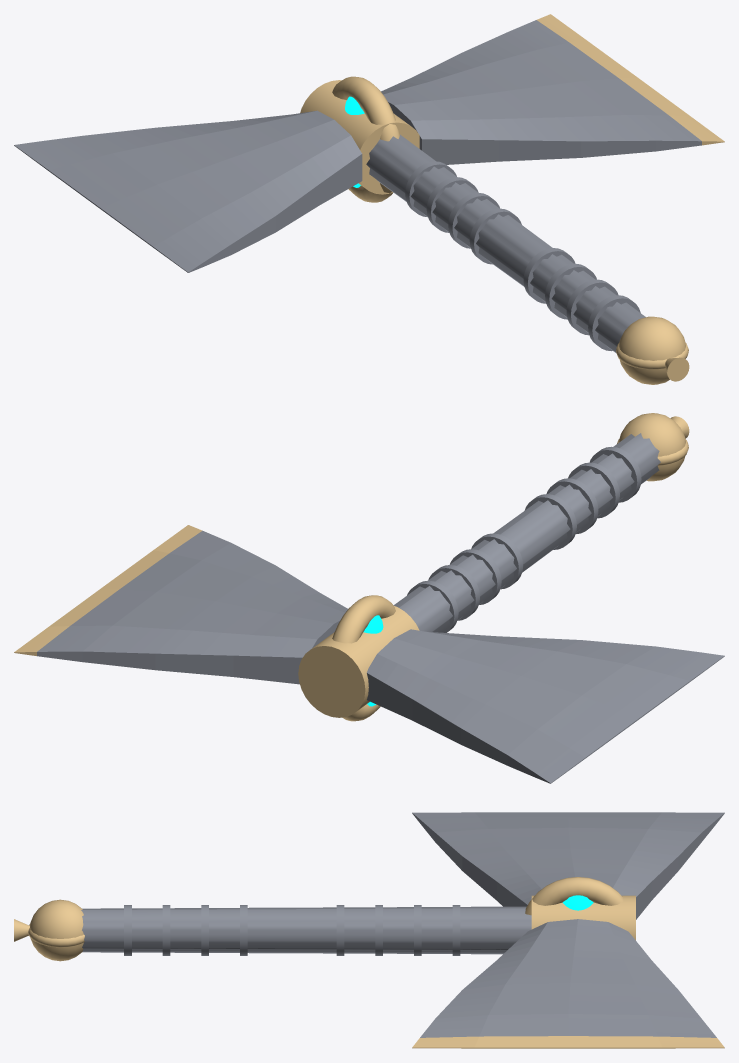
Rendered from art_battleaxe_cleaver.fbx.
The picture shows the model from 3 angles, top to bottom: view 1: azimuth 30°, elevation 25°; view 2: azimuth 150°, elevation 25°; view 3: azimuth 270°, elevation 25°; orthographic projection. The views are drawn at different scales.
Parts seen in each view (by area): view 1: BackSpike, Blade, Handle, HeadCollar, Pommel, BladeEdge; view 2: BackSpike, Blade, Handle, HeadCollar, BladeEdge, Pommel; view 3: Blade, Handle, BackSpike, HeadCollar, BladeEdge, Pommel.
Part boxes in pixels (<box>): BackSpike: <box>14,110,362,272</box>; Blade: <box>381,20,701,164</box>; Handle: <box>366,134,645,353</box>; HeadCollar: <box>300,76,419,202</box>; Pommel: <box>616,316,689,384</box>; BladeEdge: <box>537,14,724,145</box>; BackSpike: <box>367,629,724,783</box>; Blade: <box>37,530,347,684</box>; Handle: <box>393,433,660,632</box>; HeadCollar: <box>298,595,419,721</box>; BladeEdge: <box>14,525,202,655</box>; Pommel: <box>617,413,689,481</box>; Blade: <box>420,919,716,1037</box>; Handle: <box>81,905,531,955</box>; BackSpike: <box>412,812,724,919</box>; HeadCollar: <box>525,877,635,940</box>; BladeEdge: <box>412,1036,724,1048</box>; Pommel: <box>14,899,84,961</box>.
Bounding box in the file's own units: 288 × 60 × 368.
